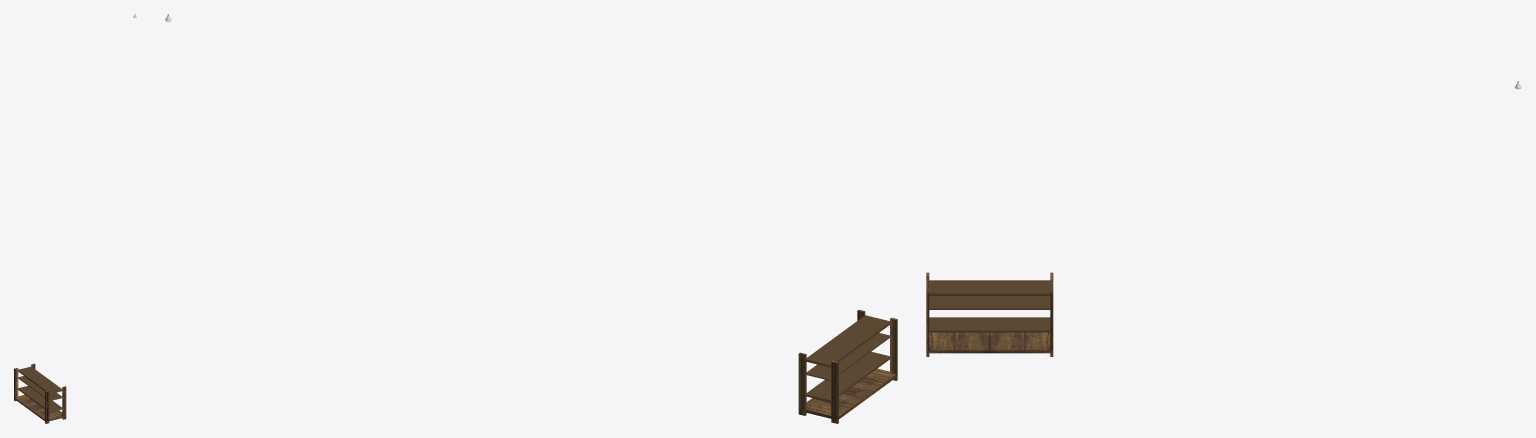
The model's file is Shelf.fbx.
3 renders of one model, left to right at view 1: azimuth 30°, elevation 25°; view 2: azimuth 150°, elevation 25°; view 3: azimuth 270°, elevation 25°, orthographic. The views are drawn at different scales.
Parts seen in each view (by area): view 1: Cube; view 2: Cube; view 3: Cube.
Boxes of the visible parts, x1,y1,x2,y2 form: Cube: (14,363,66,423); Cube: (798,310,897,423); Cube: (926,272,1053,356).
Bounding box in the file's own units: 947 × 923 × 1022.
2 materials, 1 textured.
